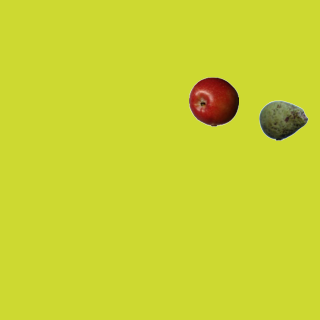Apple Braeburn: (188, 76, 238, 126)
Pear Stone: (258, 95, 308, 145)
